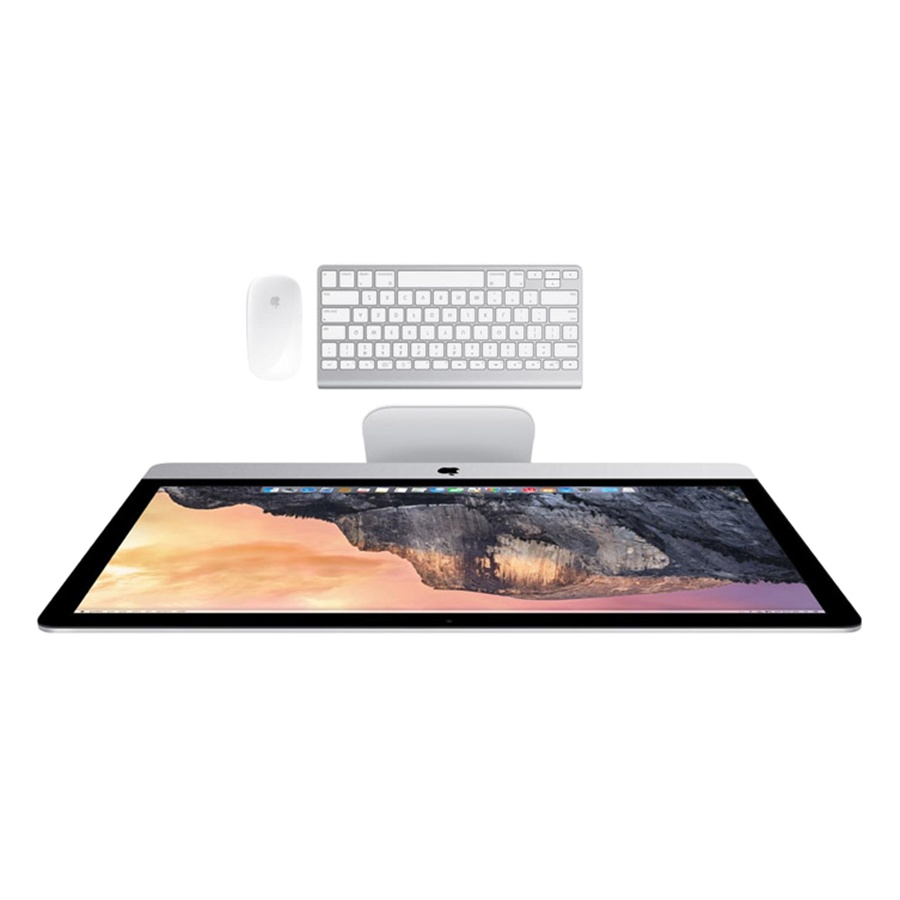Apple: (186, 232, 349, 392), (355, 395, 491, 533)
